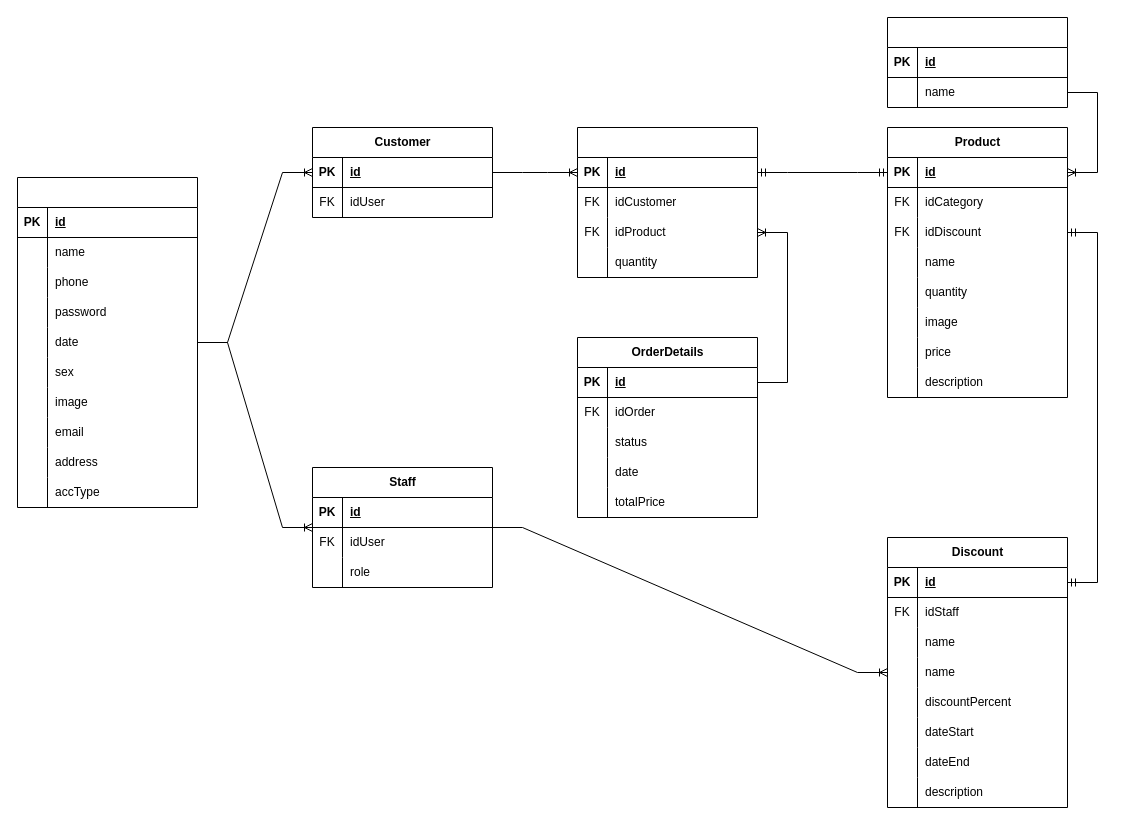
The diagram is 1124 pixels wide and 825 high, and some of its shapes have lost their labels. The box of each missing label's shape, as (x1, y1, x2, y2) in pixels:
Category: (886, 16, 1068, 108)
OrderItem: (576, 126, 758, 278)
User: (16, 176, 198, 508)
